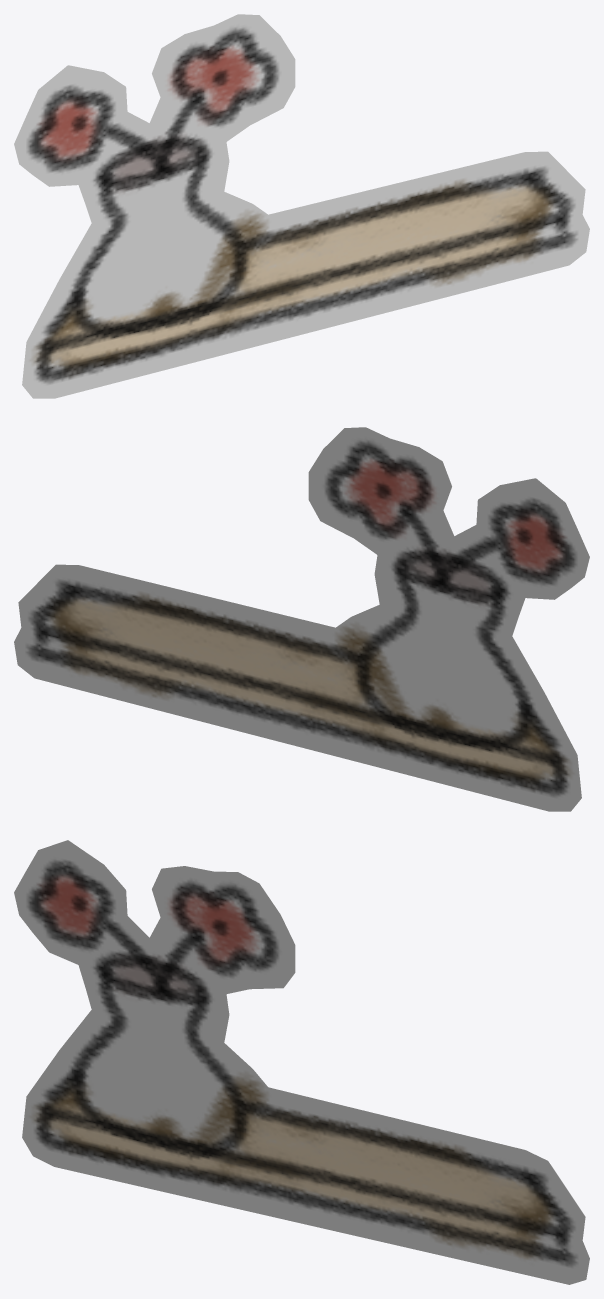
Rendered from Hylla.fbx.
3 views of the same model, one above another, from view 1: azimuth 30°, elevation 25°; view 2: azimuth 150°, elevation 25°; view 3: azimuth 330°, elevation 25° (orthographic).
Visible parts, largest first — view 1: hylla; view 2: hylla; view 3: hylla.
Boxes of the visible parts, x1=… form: hylla: x1=14, y1=14, x2=589, y2=398; hylla: x1=14, y1=427, x2=589, y2=811; hylla: x1=14, y1=840, x2=589, y2=1284.
Size of the model in its own units: 92.06 by 51.89 by 8.45e-06.
1 material, 1 textured.
